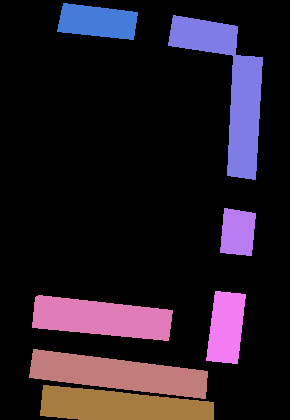parkingspot: (29, 349, 207, 398), (32, 295, 172, 340), (40, 385, 213, 420), (227, 55, 262, 179), (57, 3, 137, 39), (206, 291, 245, 363), (168, 15, 237, 55), (220, 208, 255, 255)
